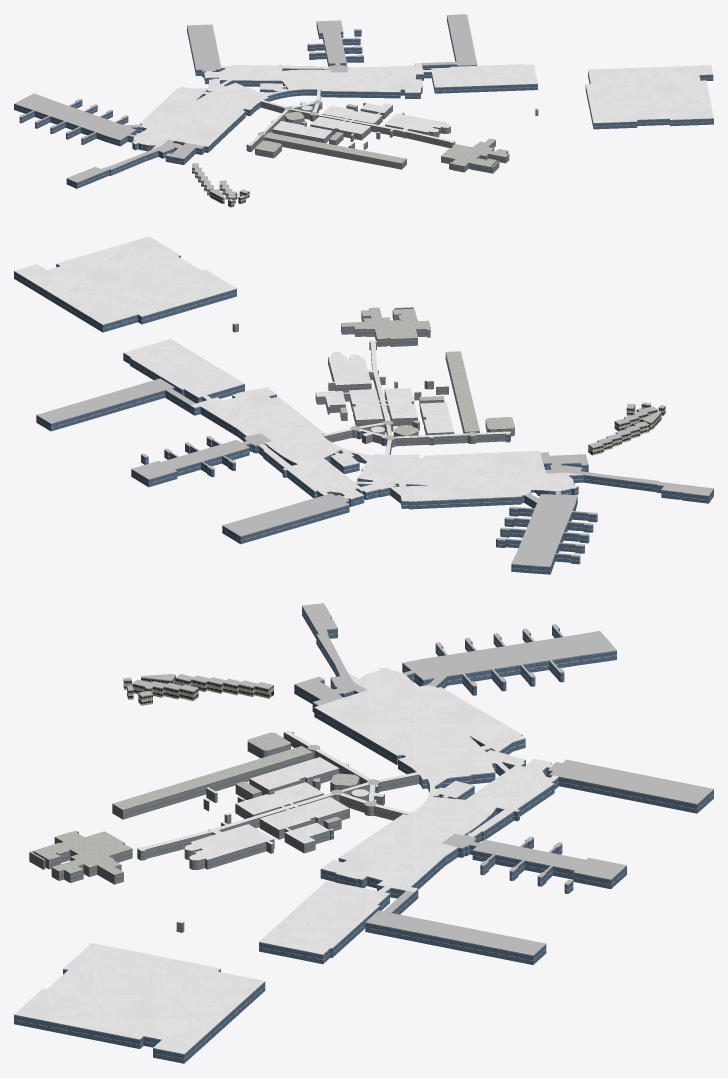
Rendered from romeAirport.fbx.
The picture shows the model from 3 angles, top to bottom: view 1: azimuth 30°, elevation 25°; view 2: azimuth 150°, elevation 25°; view 3: azimuth 270°, elevation 25°; orthographic projection. The views are drawn at different scales.
Visible parts, largest first — view 1: Roof, Areas:building; view 2: Roof, Areas:building; view 3: Roof, Areas:building.
Part boxes in pixels (left/top/right/bottom): Roof: left=14, top=14, right=713, bottom=201; Areas:building: left=14, top=16, right=713, bottom=207; Roof: left=14, top=236, right=713, bottom=566; Areas:building: left=14, top=255, right=713, bottom=574; Roof: left=14, top=603, right=713, bottom=1053; Areas:building: left=14, top=606, right=713, bottom=1063.
Size of the model in its own units: 200435 by 2000 by 131485.
